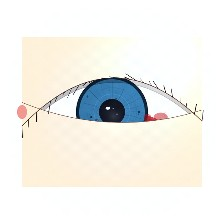hemorrhage_spot: (112, 105, 172, 153)
